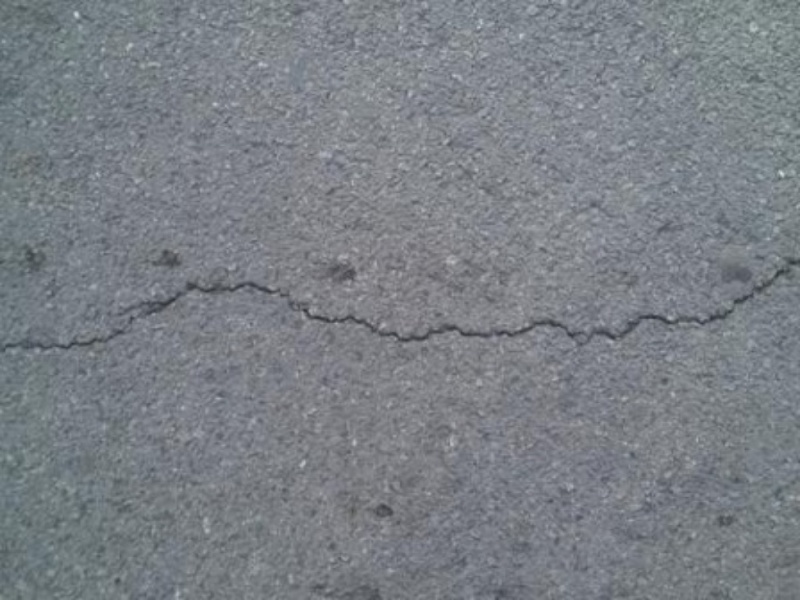crack: (7, 255, 782, 388)
